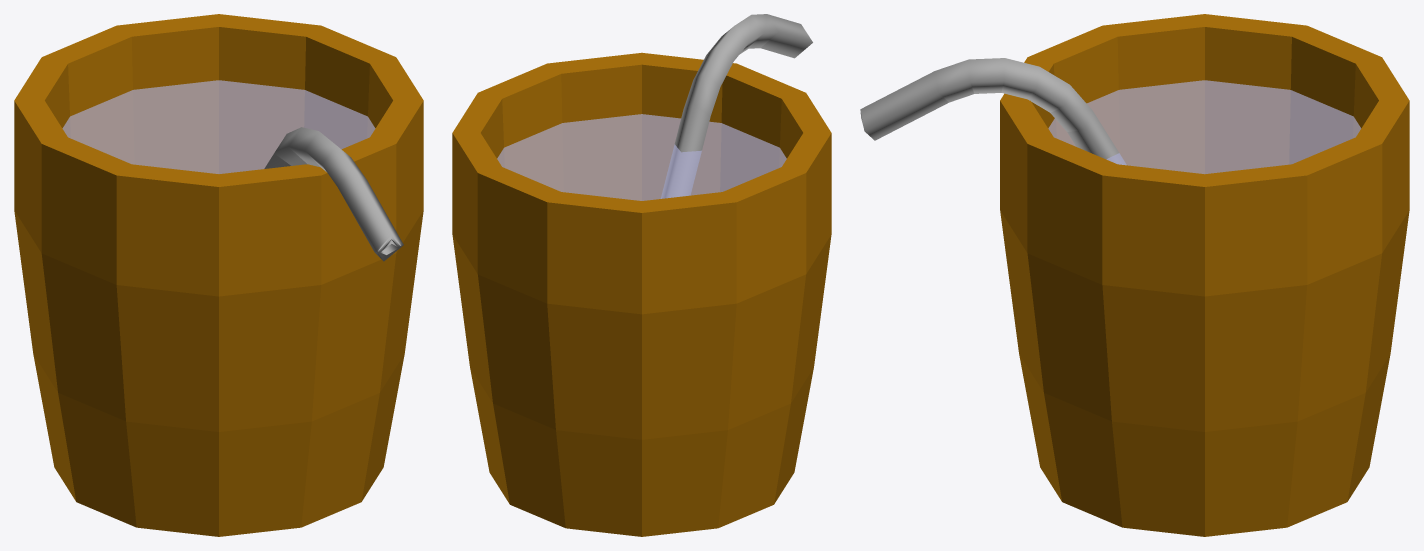
Rendered from cup_01_withstraw.fbx.
The picture shows the model from 3 angles, left to right: view 1: azimuth 30°, elevation 25°; view 2: azimuth 150°, elevation 25°; view 3: azimuth 270°, elevation 25°; orthographic projection. The views are drawn at different scales.
Parts seen in each view (by area): view 1: cupandstraw; view 2: cupandstraw; view 3: cupandstraw.
Boxes of the visible parts, <box> form: cupandstraw: <box>14,14,423,536</box>; cupandstraw: <box>452,14,831,536</box>; cupandstraw: <box>860,14,1409,536</box>.
Bounding box in the file's own units: 24.38 × 26.89 × 32.69.
